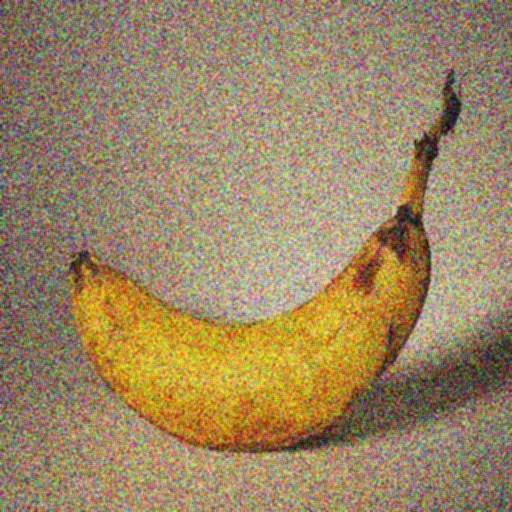fruit: (33, 136, 107, 456)
